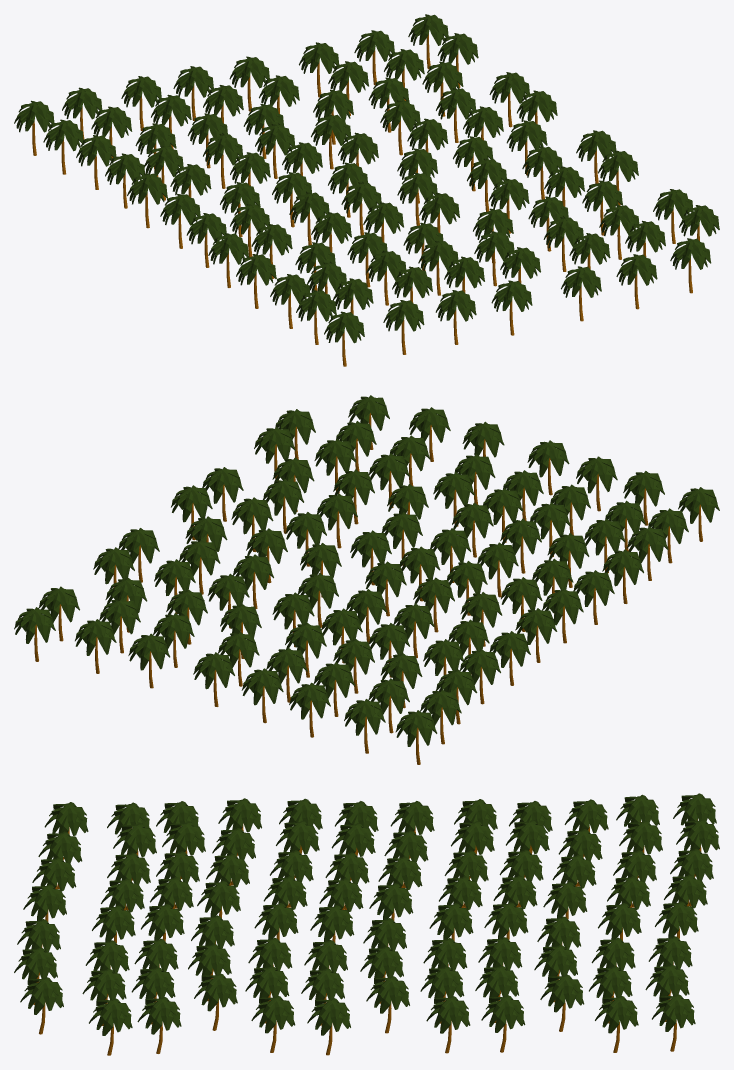
Rendered from palmeras.fbx.
3 renders of one model, top to bottom at view 1: azimuth 30°, elevation 25°; view 2: azimuth 150°, elevation 25°; view 3: azimuth 270°, elevation 25°, orthographic. The views are drawn at different scales.
Parts seen in each view (by area): view 1: palmera.071, palmera.023, palmera.047, palmera.059, palmera.090, palmera.042, palmera.011, palmera.035, palmera.083, palmera.066, palmera.018, palmera.087 (+80 smaller); view 2: palmera.066, palmera.042, palmera.078, palmera.091, palmera.018, palmera.006, palmera.072, palmera.030, palmera.047, palmera.054, palmera.059, palmera.071 (+80 smaller); view 3: palmera.004, palmera.002, palmera.009, palmera.001, palmera.007, palmera.005, palmera.010, palmera, palmera.003, palmera.006, palmera.008, palmera.011 (+80 smaller).
Part boxes in pixels (box(x1,y1,x2,y2)): palmera.071: box(383, 300, 424, 354); palmera.023: box(616, 254, 657, 309); palmera.047: box(491, 280, 532, 335); palmera.059: box(435, 290, 476, 344); palmera.090: box(43, 119, 84, 174); palmera.042: box(229, 56, 269, 111); palmera.011: box(670, 238, 711, 293); palmera.035: box(561, 266, 601, 321); palmera.083: box(324, 311, 364, 366); palmera.066: box(121, 76, 161, 130); palmera.018: box(354, 30, 394, 85); palmera.087: box(208, 233, 248, 287); palmera.066: box(289, 682, 330, 737); palmera.042: box(193, 652, 234, 706); palmera.078: box(344, 699, 385, 753); palmera.091: box(395, 710, 437, 764); palmera.018: box(75, 619, 116, 673); palmera.006: box(14, 607, 55, 661); palmera.072: box(515, 608, 557, 662); palmera.030: box(128, 633, 170, 688); palmera.047: box(527, 440, 569, 495); palmera.054: box(241, 668, 283, 723); palmera.059: box(576, 456, 617, 511); palmera.071: box(623, 471, 664, 525); palmera.004: box(540, 974, 584, 1031); palmera.002: box(426, 995, 470, 1053); palmera.009: box(137, 996, 181, 1053); palmera.001: box(307, 997, 350, 1055); palmera.007: box(251, 995, 295, 1052); palmera.005: box(595, 995, 638, 1052); palmera.010: box(89, 998, 132, 1055); palmera: box(366, 976, 409, 1033); palmera.003: box(481, 995, 525, 1052); palmera.006: box(652, 994, 695, 1051); palmera.008: box(194, 973, 237, 1030); palmera.011: box(20, 977, 63, 1034).
Bounding box in the file's own units: 3550 × 409 × 4768.
